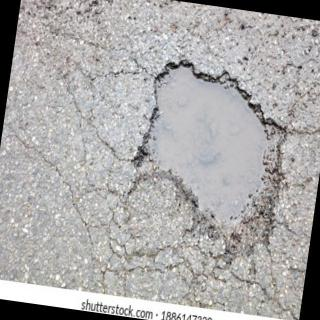pothole: (132, 60, 287, 265)
